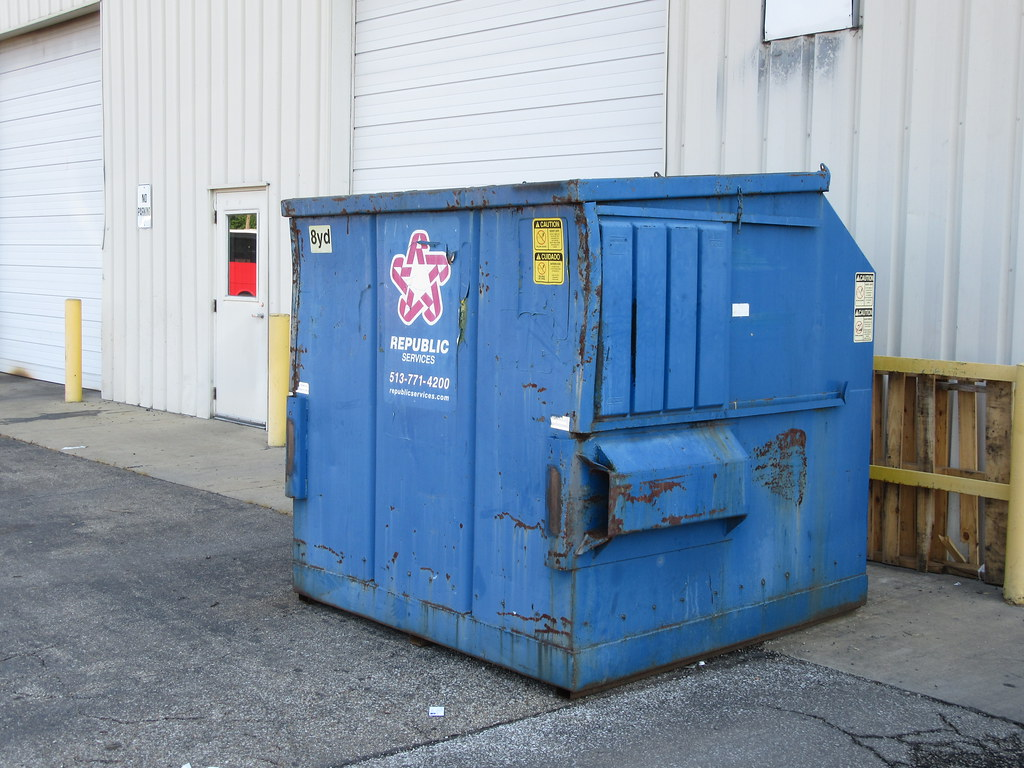Dumpster: (261, 166, 904, 702)
